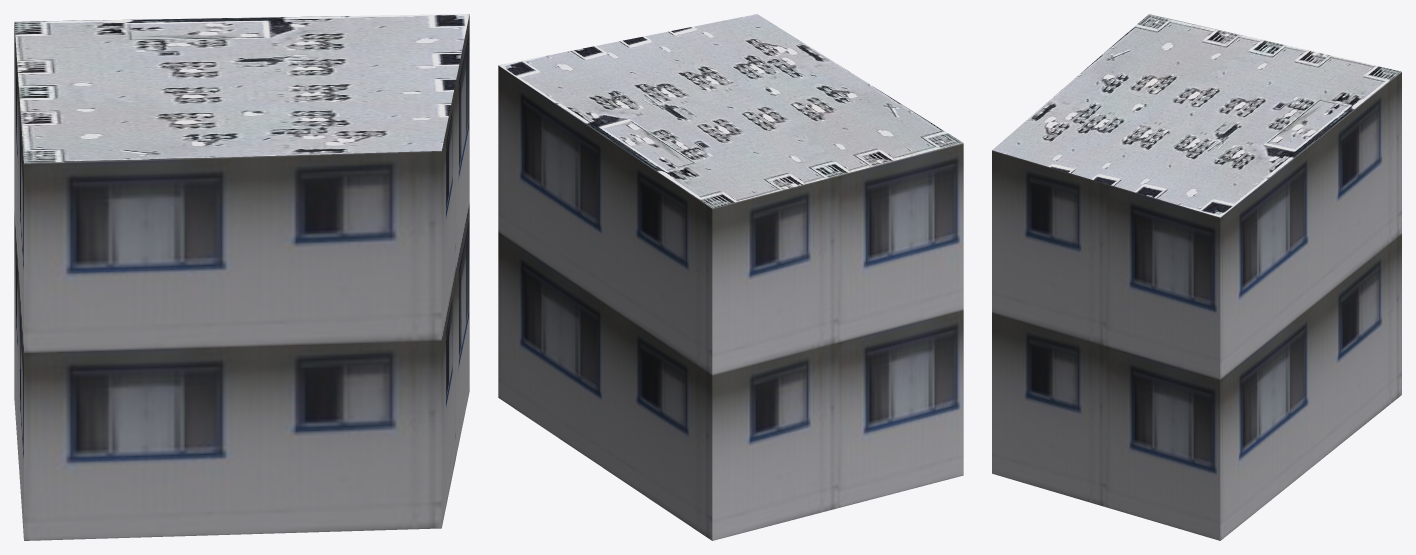
The model's file is ResTex__4195.fbx.
3 renders of one model, left to right at view 1: azimuth 30°, elevation 25°; view 2: azimuth 150°, elevation 25°; view 3: azimuth 270°, elevation 25°, orthographic. The views are drawn at different scales.
Parts seen in each view (by area): view 1: CityEngineMaterial_9_m, CityEngineMaterial_4_m; view 2: CityEngineMaterial_9_m, CityEngineMaterial_4_m; view 3: CityEngineMaterial_9_m, CityEngineMaterial_4_m.
Part boxes in pixels (x1=…): CityEngineMaterial_9_m: x1=14, y1=14, x2=469, y2=540; CityEngineMaterial_4_m: x1=14, y1=14, x2=469, y2=163; CityEngineMaterial_9_m: x1=498, y1=65, x2=963, y2=540; CityEngineMaterial_4_m: x1=498, y1=14, x2=963, y2=208; CityEngineMaterial_9_m: x1=992, y1=72, x2=1401, y2=540; CityEngineMaterial_4_m: x1=992, y1=14, x2=1401, y2=217.
Size of the model in its own units: 8.1 by 6 by 6.89.
2 materials, 2 textured.
